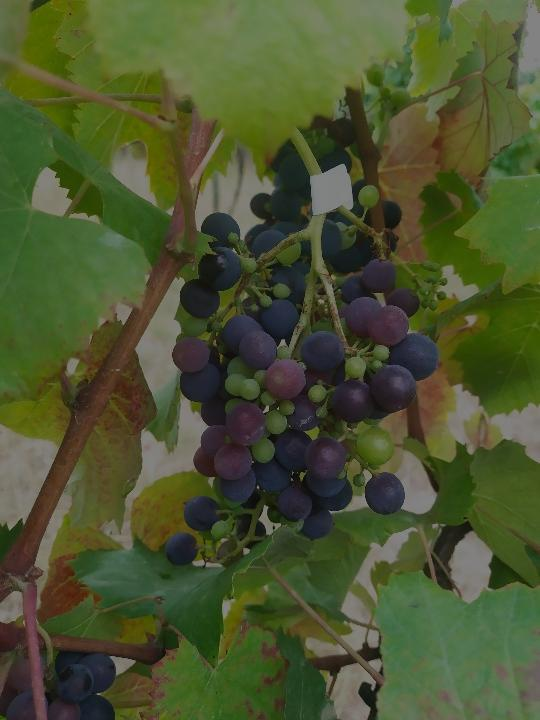grape: (162, 186, 448, 569)
